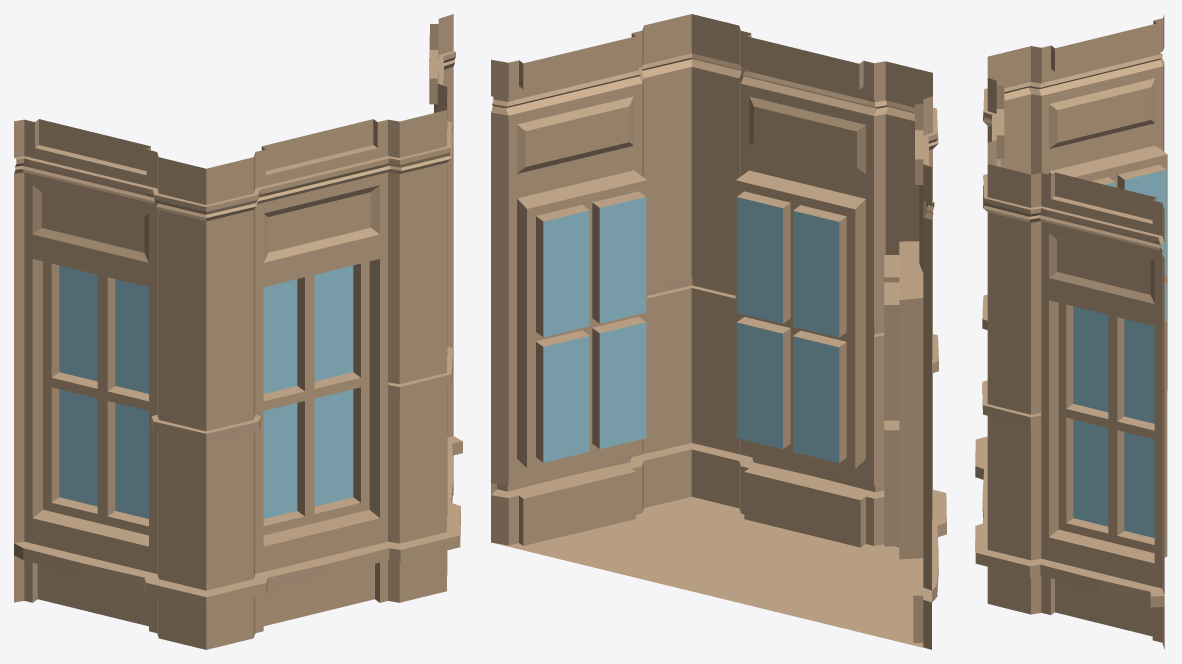
Rendered from O_FaceTypeHexDoubleWindow_Top.fbx.
The picture shows the model from 3 angles, left to right: view 1: azimuth 30°, elevation 25°; view 2: azimuth 150°, elevation 25°; view 3: azimuth 270°, elevation 25°; orthographic projection. The views are drawn at different scales.
Parts seen in each view (by area): view 1: O_FacadeTypeHexDoubleWindow_Mid02; view 2: O_FacadeTypeHexDoubleWindow_Mid02; view 3: O_FacadeTypeHexDoubleWindow_Mid02.
Boxes of the visible parts, x1=… form: O_FacadeTypeHexDoubleWindow_Mid02: x1=14, y1=14, x2=462, y2=649; O_FacadeTypeHexDoubleWindow_Mid02: x1=491, y1=14, x2=946, y2=649; O_FacadeTypeHexDoubleWindow_Mid02: x1=975, y1=15, x2=1167, y2=649.
Bounding box in the file's own units: 624 × 650 × 258.
